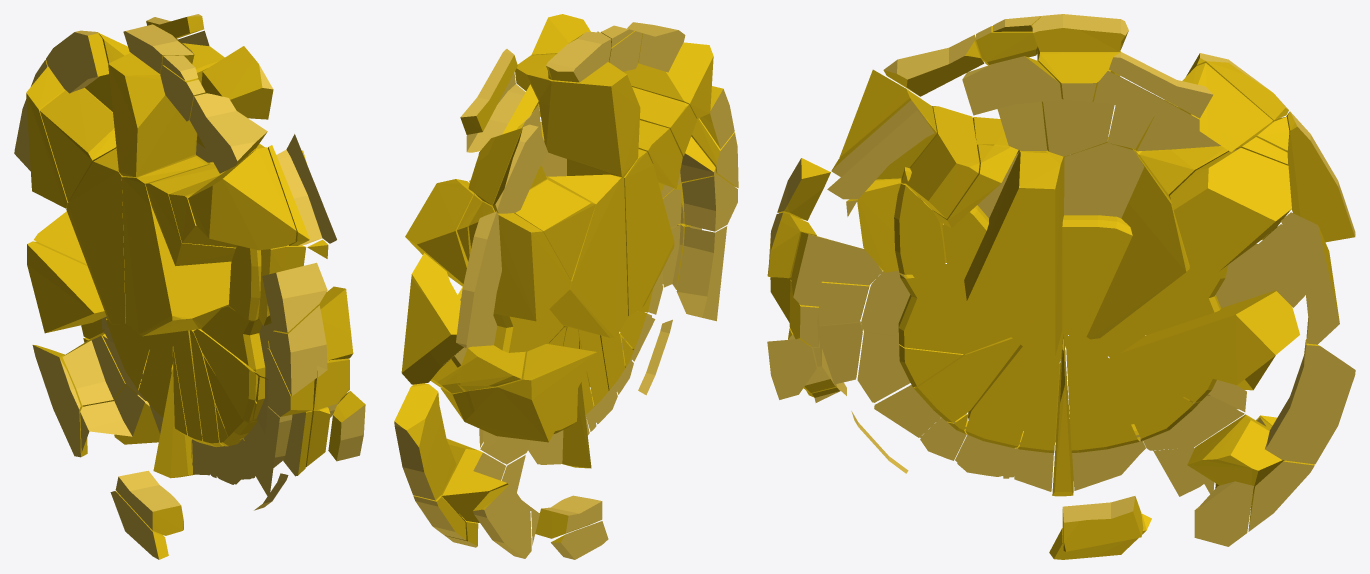
Rendered from Coin_fractured.fbx.
3 renders of one model, left to right at view 1: azimuth 30°, elevation 25°; view 2: azimuth 150°, elevation 25°; view 3: azimuth 270°, elevation 25°, orthographic. The views are drawn at different scales.
Visible parts, largest first — view 1: Coin_cell.028, Coin_cell.020, Coin_cell.052, Coin_cell.017, Coin_cell.060, Coin_cell.005, Coin_cell.072, Coin_cell.034, Coin_cell.054, Coin_cell.047, Coin_cell.065, Coin_cell.018 (+38 smaller); view 2: Coin_cell.020, Coin_cell.017, Coin_cell.005, Coin_cell.018, Coin_cell.028, Coin_cell.066, Coin_cell.074, Coin_cell.010, Coin_cell.015, Coin_cell.060, Coin_cell.087, Coin_cell.052 (+36 smaller); view 3: Coin_cell.028, Coin_cell.085, Coin_cell.015, Coin_cell.040, Coin_cell.079, Coin_cell.017, Coin_cell.102, Coin_cell.074, Coin_cell.045, Coin_cell.066, Coin_cell.020, Coin_cell.003 (+40 smaller).
Part boxes in pixels (x1=…): Coin_cell.028: x1=121, y1=143, x2=265, y2=336; Coin_cell.020: x1=108, y1=43, x2=224, y2=176; Coin_cell.052: x1=188, y1=147, x2=296, y2=250; Coin_cell.017: x1=66, y1=148, x2=125, y2=324; Coin_cell.060: x1=39, y1=88, x2=116, y2=201; Coin_cell.005: x1=27, y1=241, x2=106, y2=333; Coin_cell.072: x1=189, y1=93, x2=267, y2=173; Coin_cell.034: x1=268, y1=134, x2=336, y2=245; Coin_cell.054: x1=196, y1=46, x2=273, y2=162; Coin_cell.047: x1=145, y1=163, x2=235, y2=265; Coin_cell.065: x1=269, y1=305, x2=327, y2=396; Coin_cell.018: x1=26, y1=66, x2=68, y2=208; Coin_cell.020: x1=515, y1=53, x2=640, y2=176; Coin_cell.017: x1=548, y1=174, x2=627, y2=337; Coin_cell.005: x1=440, y1=344, x2=596, y2=442; Coin_cell.018: x1=468, y1=201, x2=571, y2=321; Coin_cell.028: x1=516, y1=122, x2=674, y2=315; Coin_cell.066: x1=401, y1=253, x2=467, y2=384; Coin_cell.074: x1=394, y1=383, x2=456, y2=500; Coin_cell.010: x1=456, y1=211, x2=501, y2=348; Coin_cell.015: x1=405, y1=179, x2=475, y2=286; Coin_cell.060: x1=469, y1=176, x2=595, y2=280; Coin_cell.087: x1=676, y1=225, x2=727, y2=321; Coin_cell.052: x1=623, y1=42, x2=713, y2=118; Coin_cell.028: x1=964, y1=150, x2=1069, y2=356; Coin_cell.085: x1=1062, y1=144, x2=1144, y2=337; Coin_cell.015: x1=1170, y1=148, x2=1291, y2=271; Coin_cell.040: x1=1121, y1=290, x2=1299, y2=385; Coin_cell.079: x1=861, y1=270, x2=1010, y2=354; Coin_cell.017: x1=1071, y1=137, x2=1189, y2=339; Coin_cell.102: x1=1065, y1=335, x2=1145, y2=490; Coin_cell.074: x1=1265, y1=339, x2=1355, y2=464; Coin_cell.045: x1=1104, y1=245, x2=1274, y2=337; Coin_cell.066: x1=1257, y1=212, x2=1339, y2=344; Coin_cell.020: x1=1037, y1=48, x2=1120, y2=156; Coin_cell.003: x1=1100, y1=353, x2=1244, y2=450.
Bounding box in the file's own units: 23.77 × 90.87 × 89.76.
